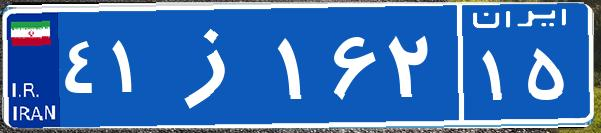1: (273, 28, 330, 110), (475, 38, 525, 113), (110, 28, 158, 105)
2: (385, 28, 445, 110)
4: (57, 26, 110, 107)
5: (525, 38, 570, 115)
6: (330, 28, 385, 110)
ز: (158, 15, 273, 115)
